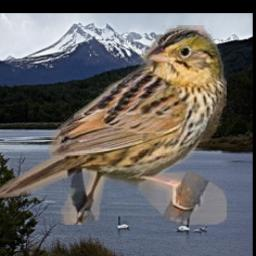Sparrow: (0, 25, 228, 225)
